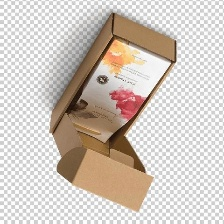carton: (59, 34, 175, 146)
